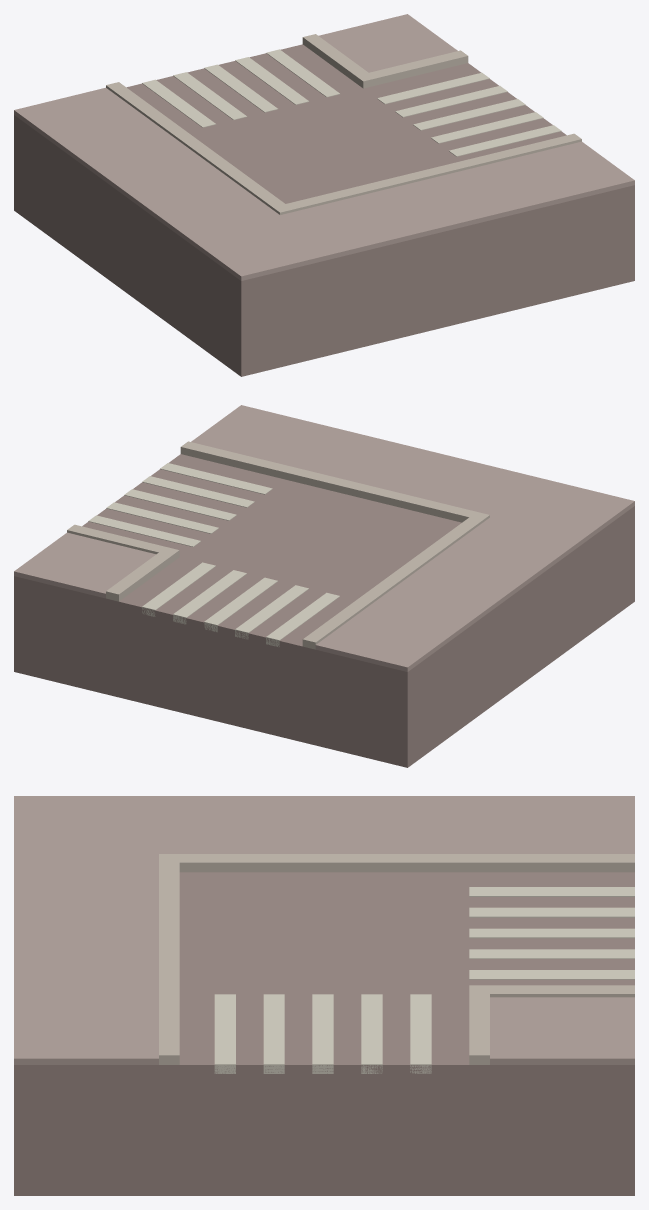
The model's file is Road_90_Degree.fbx.
3 views of the same model, one above another, from view 1: azimuth 30°, elevation 25°; view 2: azimuth 150°, elevation 25°; view 3: azimuth 270°, elevation 25° (orthographic). The views are drawn at different scales.
Parts seen in each view (by area): view 1: Road_90_Degree; view 2: Road_90_Degree; view 3: Road_90_Degree.
Part boxes in pixels (x1=…): Road_90_Degree: x1=14, y1=14, x2=634, y2=376; Road_90_Degree: x1=14, y1=405, x2=634, y2=767; Road_90_Degree: x1=14, y1=796, x2=634, y2=1195.
Bounding box in the file's own units: 400 × 100 × 400.
